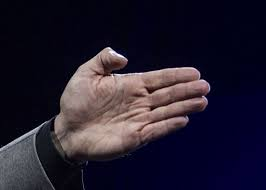palm: (70, 76, 150, 152)
